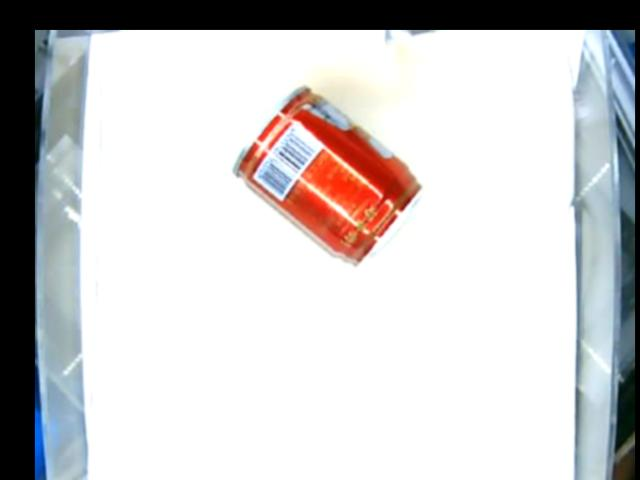Bottle: (235, 83, 423, 267)
